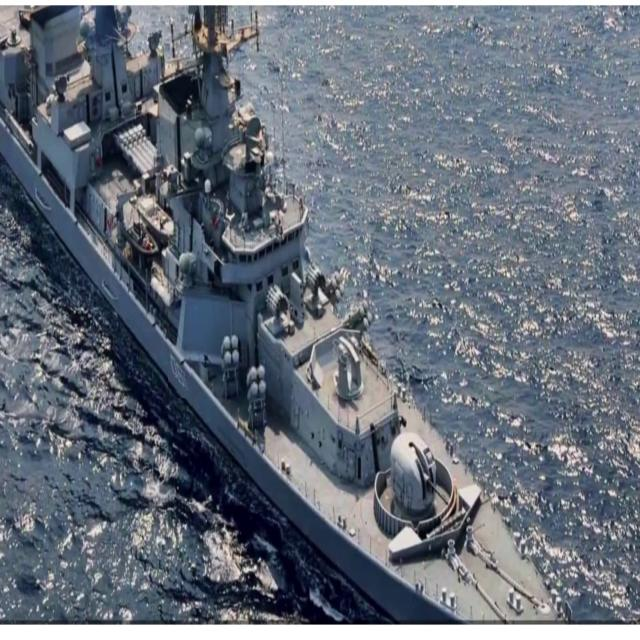OCR: (168, 353, 192, 398)
